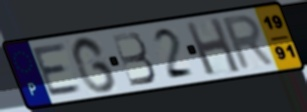2: (150, 27, 196, 81)
B: (109, 30, 159, 88)
E: (30, 41, 86, 99)
G: (69, 35, 119, 95)
H: (183, 15, 244, 78)
R: (221, 12, 279, 74)
